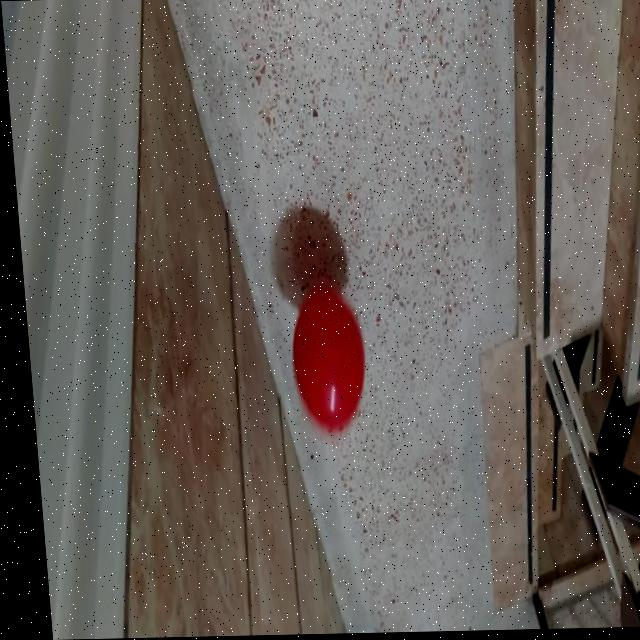balloon: (270, 265, 365, 449)
